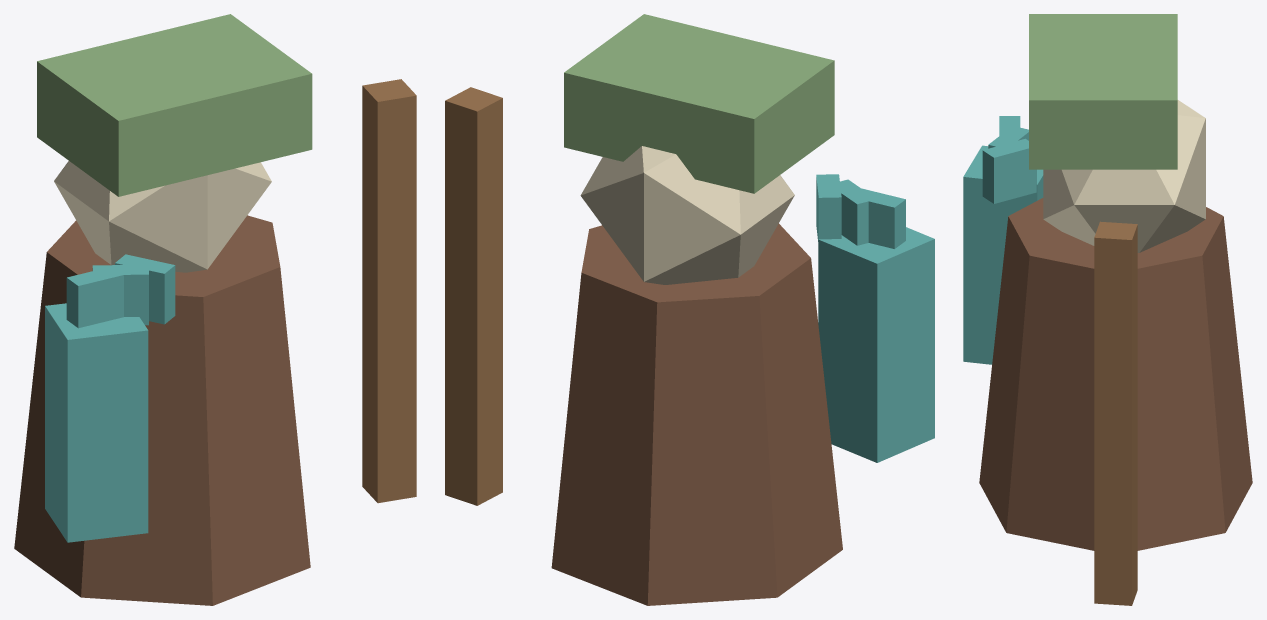
The model's file is player_archer.glb.
3 views of the same model, side by side, from view 1: azimuth 30°, elevation 25°; view 2: azimuth 150°, elevation 25°; view 3: azimuth 270°, elevation 25° (orthographic). The views are drawn at different scales.
Parts seen in each view (by area): view 1: body, hood, bow, quiver, head, feather_0, feather_2, feather_1; view 2: body, hood, quiver, bow, head, feather_0, feather_2, feather_1; view 3: body, hood, bow, head, quiver, feather_2, feather_0.
Part boxes in pixels (x1,y1,x2,y2): body: [14, 215, 310, 605]; hood: [37, 14, 312, 196]; bow: [362, 79, 416, 503]; quiver: [45, 303, 148, 542]; head: [54, 161, 271, 272]; feather_0: [66, 266, 123, 328]; feather_2: [115, 254, 175, 324]; feather_1: [92, 265, 148, 325]; body: [551, 223, 842, 605]; hood: [564, 14, 834, 193]; quiver: [818, 227, 934, 462]; bow: [445, 87, 502, 505]; head: [580, 146, 794, 284]; feather_0: [850, 187, 905, 248]; feather_2: [816, 174, 841, 241]; feather_1: [829, 179, 868, 245]; body: [979, 198, 1252, 550]; hood: [1029, 14, 1177, 169]; bow: [1094, 221, 1137, 605]; head: [1043, 100, 1205, 252]; quiver: [963, 145, 1043, 364]; feather_2: [982, 138, 1036, 203]; feather_0: [999, 116, 1020, 137].
Size of the model in its own units: 1.03 by 1.14 by 0.6812.
